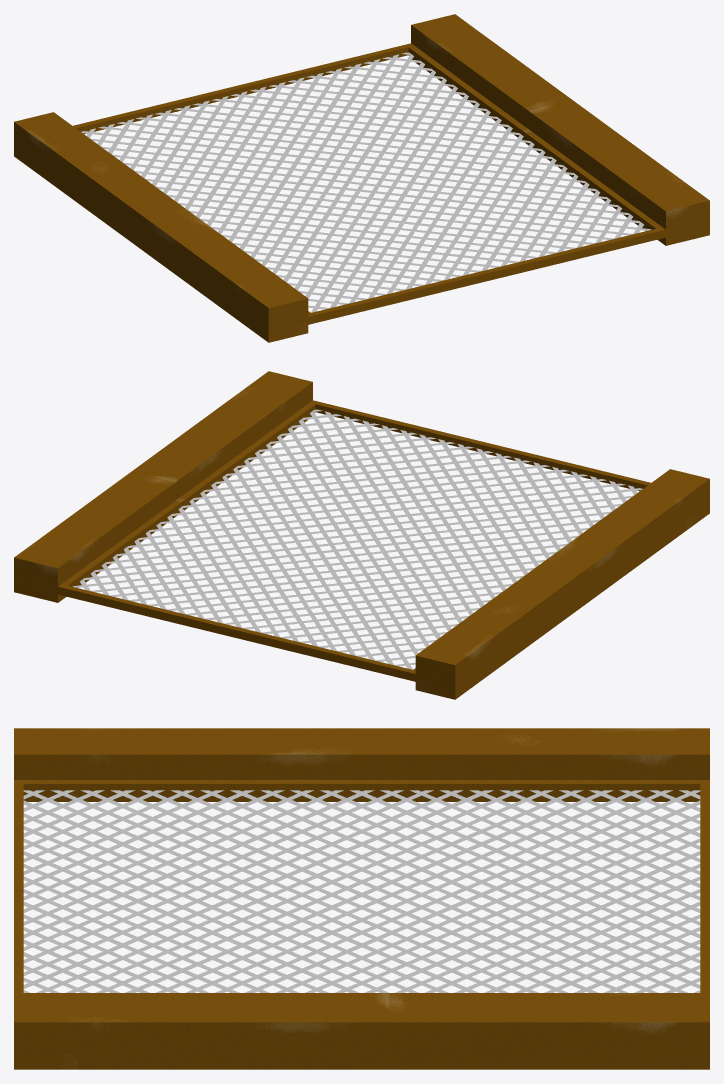
File: FI-005 Walkways.fbx
The picture shows the model from 3 angles, top to bottom: view 1: azimuth 30°, elevation 25°; view 2: azimuth 150°, elevation 25°; view 3: azimuth 270°, elevation 25°; orthographic projection. The views are drawn at different scales.
Visible parts, largest first — view 1: FI-005-Walkway; view 2: FI-005-Walkway; view 3: FI-005-Walkway.
Part boxes in pixels (left/top/right/bottom): FI-005-Walkway: left=14, top=14, right=709, bottom=342; FI-005-Walkway: left=14, top=371, right=709, bottom=699; FI-005-Walkway: left=14, top=728, right=709, bottom=1069.
Bounding box in the file's own units: 200 × 15 × 200.
